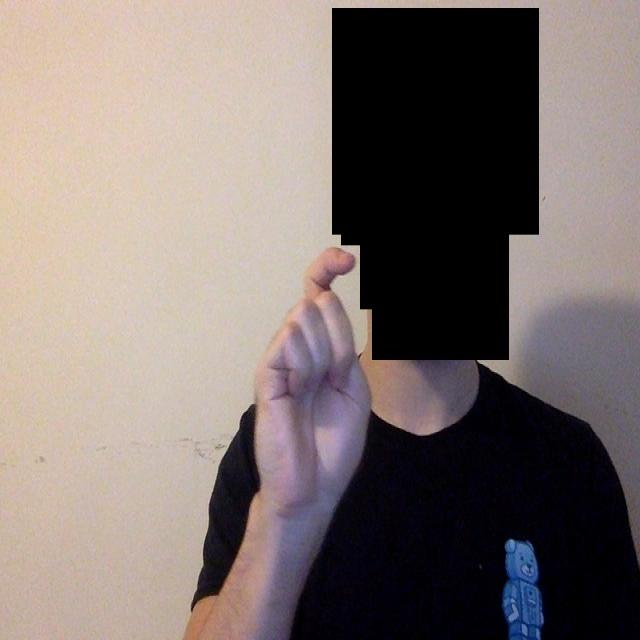X: (226, 232, 411, 514)
